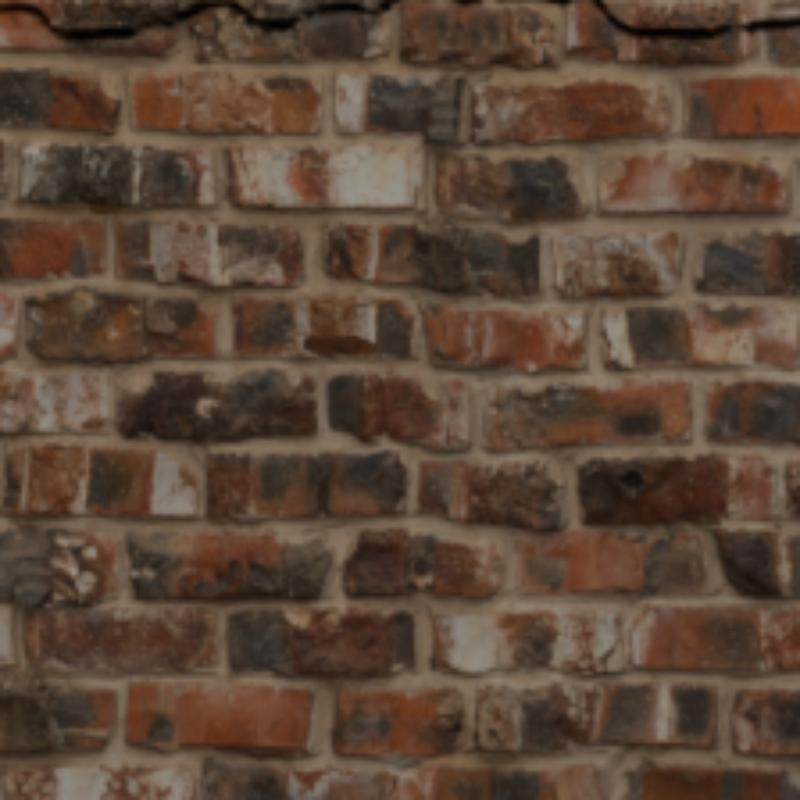crack: (0, 0, 396, 39), (589, 0, 796, 39)
